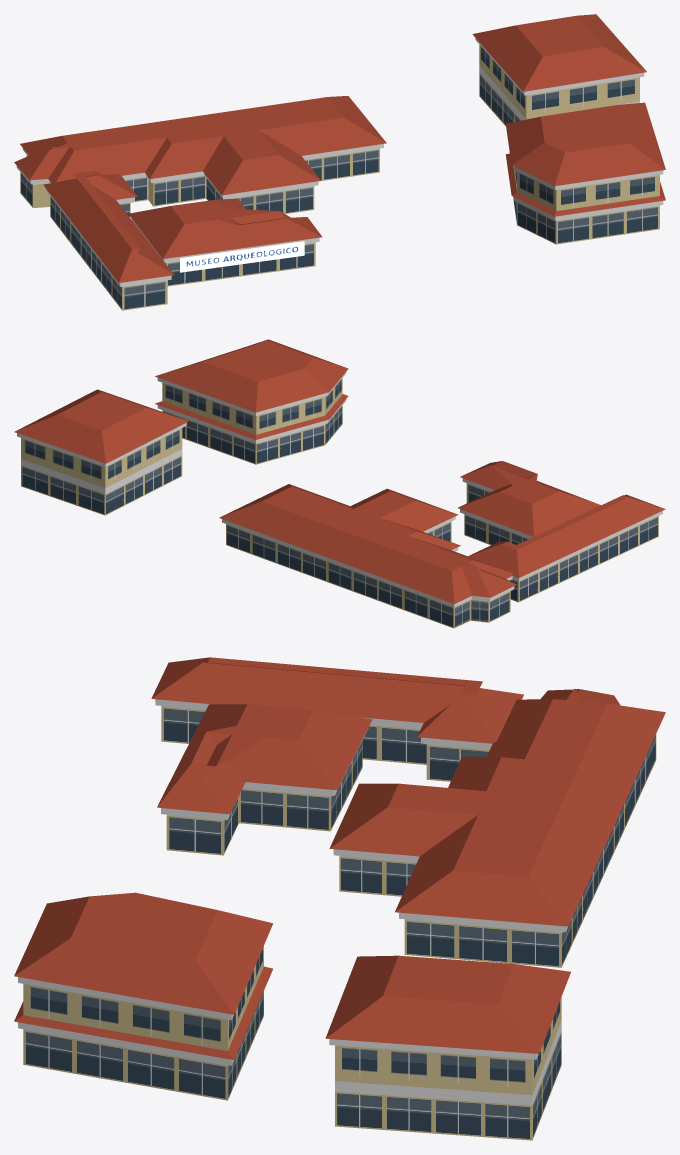
File: archmuseum.glb
3 views of the same model, one above another, from view 1: azimuth 30°, elevation 25°; view 2: azimuth 150°, elevation 25°; view 3: azimuth 270°, elevation 25° (orthographic). The views are drawn at different scales.
Visible parts, largest first — view 1: archmuseum_lod0; view 2: archmuseum_lod0; view 3: archmuseum_lod0.
Boxes of the visible parts, x1=… form: archmuseum_lod0: x1=14, y1=14, x2=665, y2=310; archmuseum_lod0: x1=14, y1=339, x2=665, y2=628; archmuseum_lod0: x1=14, y1=657, x2=665, y2=1140.
Size of what is drawn, in the model's own units: 74.31 by 9.2 by 46.88.
5 materials, 3 textured.
